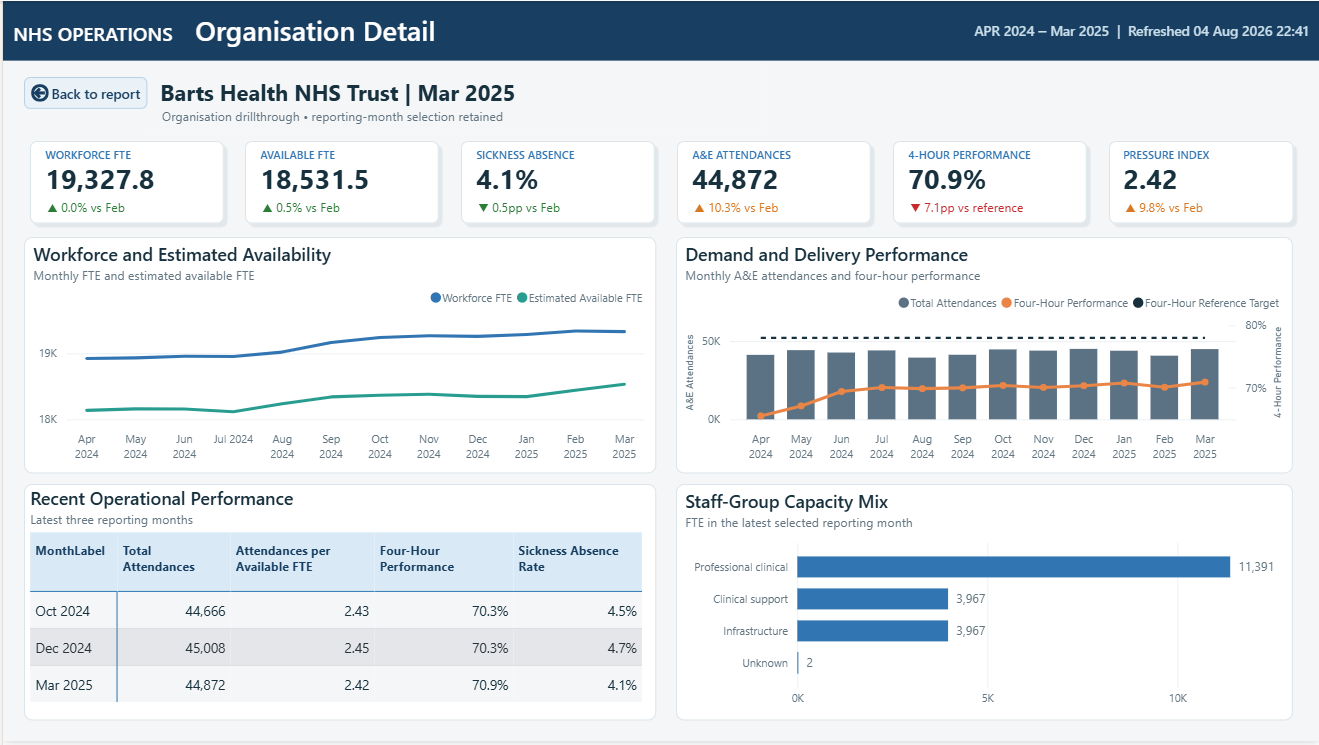

What the dashboard file says about the page in this screenshot:
{"tool":"powerbi","page":{"name":"Organisation","canvas":[1280,720],"ordinal":5},"visuals":[{"type":"cardVisual","fields":{"Data":["_Measures.Organisation Detail Title"]},"box":[140,48,600,80],"z":0},{"type":"shape","box":[1070,130,191,92],"z":0,"group":"g6"},{"type":"shape","box":[0,0,1280,58],"z":1000},{"type":"shape","box":[230,130,200,92],"z":1000,"group":"g2"},{"type":"shape","box":[860,130,200,92],"z":1000,"group":"g5"},{"type":"textbox","box":[5,5,550,47],"z":2000},{"type":"shape","box":[20,130,200,92],"z":2000,"group":"g1"},{"type":"shape","box":[650,130,200,92],"z":2000,"group":"g4"},{"type":"cardVisual","fields":{"Data":["_Measures.Latest Refresh Label"]},"box":[1085,10,190,35],"z":3000},{"type":"shape","box":[440,130,200,92],"z":3000,"group":"g3"},{"type":"textbox","box":[940,11,148,35],"z":4000},{"type":"actionButton","box":[20,74,120,31],"z":5000},{"type":"textbox","box":[155,103,400,28],"z":6000},{"type":"group","id":"g1","title":"Group 4","box":[20,130,200,92],"z":7000},{"type":"group","id":"g2","title":"Group 5","box":[230,130,200,92],"z":8000},{"type":"group","id":"g3","title":"Group 1","box":[440,130,200,92],"z":9000},{"type":"group","id":"g4","title":"Group 2","box":[650,130,200,92],"z":10000},{"type":"group","id":"g5","title":"Group 3","box":[860,130,200,92],"z":11000},{"type":"group","id":"g6","title":"Group 6","box":[1070,130,191,92],"z":11001},{"type":"lineChart","title":"Workforce and Estimated Availability","fields":{"Category":["DimDate.MonthLabel"],"Y":["_Measures.Total FTE","_Measures.Estimated Available FTE"]},"box":[20,230,615,230],"z":11002},{"type":"lineClusteredColumnComboChart","title":"Demand and Delivery Performance","fields":{"Category":["DimDate.MonthLabel"],"Y":["_Measures.Total Attendances"],"Y2":["_Measures.Four-Hour Performance","_Measures.Four-Hour Reference Target"]},"box":[655,230,600,230],"z":11003},{"type":"pivotTable","title":"Recent Operational Performance","fields":{"Rows":["DimDate.MonthLabel"],"Values":["_Measures.Total Attendances","_Measures.Attendances per Available FTE","_Measures.Four-Hour Performance","_Measures.Sickness Absence Rate"]},"box":[20,470,615,230],"z":11004},{"type":"clusteredBarChart","title":"Staff-Group Capacity Mix","fields":{"Category":["dimStaffGroup.Staff Group Display"],"Y":["_Measures.Staff Mix FTE Organisation Detail"]},"box":[655,470,600,230],"z":11005},{"type":"textbox","box":[35.2,140,128.7,17],"z":16000,"group":"g1"},{"type":"cardVisual","fields":{"Data":["_Measures.Total FTE Card Value"]},"box":[35.2,154,169.6,31],"z":17000,"group":"g1"},{"type":"cardVisual","fields":{"Data":["_Measures.Total FTE Card Delta"]},"box":[35.2,189,161.4,20],"z":18000,"group":"g1"},{"type":"textbox","box":[245.2,140,128.7,17],"z":19000,"group":"g2"},{"type":"textbox","box":[1084.5,140,122.9,17],"z":20000,"group":"g6"},{"type":"cardVisual","fields":{"Data":["_Measures.Available FTE Card Value"]},"box":[245.2,154,169.6,31],"z":21000,"group":"g2"},{"type":"textbox","box":[665.2,140,128.7,17],"z":22000,"group":"g4"},{"type":"cardVisual","fields":{"Data":["_Measures.Pressure Index Card Value"]},"box":[1084.5,154,162,31],"z":22000,"group":"g6"},{"type":"textbox","box":[455.2,140,128.7,17],"z":23000,"group":"g3"},{"type":"textbox","box":[875.2,140,163.7,17],"z":23000,"group":"g5"},{"type":"cardVisual","fields":{"Data":["_Measures.Available FTE Card Delta"]},"box":[245.2,189,161.4,20],"z":23000,"group":"g2"},{"type":"cardVisual","fields":{"Data":["_Measures.Pressure Index Card Delta"]},"box":[1084.5,189,154.1,20],"z":24000,"group":"g6"},{"type":"cardVisual","fields":{"Data":["_Measures.AE Attendances Card Value"]},"box":[665.2,154,169.6,31],"z":26000,"group":"g4"},{"type":"cardVisual","fields":{"Data":["_Measures.Four Hour Performance Card Value"]},"box":[875.2,154,169.6,31],"z":27000,"group":"g5"},{"type":"cardVisual","fields":{"Data":["_Measures.Sickness Absence Card Value"]},"box":[455.2,154,169.6,31],"z":28000,"group":"g3"},{"type":"cardVisual","fields":{"Data":["_Measures.AE Attendances Card Delta"]},"box":[665.2,189,161.4,20],"z":30000,"group":"g4"},{"type":"cardVisual","fields":{"Data":["_Measures.Four Hour Performance Card Delta"]},"box":[875.2,189,169.6,20],"z":31000,"group":"g5"},{"type":"cardVisual","fields":{"Data":["_Measures.Sickness Absence Card Delta"]},"box":[455.2,189,161.4,20],"z":33000,"group":"g3"}]}

Visuals, with their boxes in screenshot pixels (x1, y1, x2, y2), scaled from the page's 1280x720 canvas onto the 1319x745 screenshot:
cardVisual - _Measures.Organisation Detail Title: l=144, t=50, r=763, b=132
shape: l=1103, t=135, r=1299, b=230
shape: l=0, t=0, r=1318, b=60
shape: l=237, t=135, r=443, b=230
shape: l=886, t=135, r=1092, b=230
textbox: l=5, t=5, r=572, b=54
shape: l=21, t=135, r=227, b=230
shape: l=670, t=135, r=876, b=230
cardVisual - _Measures.Latest Refresh Label: l=1118, t=10, r=1314, b=47
shape: l=453, t=135, r=660, b=230
textbox: l=969, t=11, r=1121, b=48
actionButton: l=21, t=77, r=144, b=109
textbox: l=160, t=107, r=572, b=136
"Group 4" group: l=21, t=135, r=227, b=230
"Group 5" group: l=237, t=135, r=443, b=230
"Group 1" group: l=453, t=135, r=660, b=230
"Group 2" group: l=670, t=135, r=876, b=230
"Group 3" group: l=886, t=135, r=1092, b=230
"Group 6" group: l=1103, t=135, r=1299, b=230
"Workforce and Estimated Availability" lineChart: l=21, t=238, r=654, b=476
"Demand and Delivery Performance" lineClusteredColumnComboChart: l=675, t=238, r=1293, b=476
"Recent Operational Performance" pivotTable: l=21, t=486, r=654, b=724
"Staff-Group Capacity Mix" clusteredBarChart: l=675, t=486, r=1293, b=724
textbox: l=36, t=145, r=169, b=162
cardVisual - _Measures.Total FTE Card Value: l=36, t=159, r=211, b=191
cardVisual - _Measures.Total FTE Card Delta: l=36, t=196, r=203, b=216
textbox: l=253, t=145, r=385, b=162
textbox: l=1118, t=145, r=1244, b=162
cardVisual - _Measures.Available FTE Card Value: l=253, t=159, r=427, b=191
textbox: l=685, t=145, r=818, b=162
cardVisual - _Measures.Pressure Index Card Value: l=1118, t=159, r=1284, b=191
textbox: l=469, t=145, r=602, b=162
textbox: l=902, t=145, r=1071, b=162
cardVisual - _Measures.Available FTE Card Delta: l=253, t=196, r=419, b=216
cardVisual - _Measures.Pressure Index Card Delta: l=1118, t=196, r=1276, b=216
cardVisual - _Measures.AE Attendances Card Value: l=685, t=159, r=860, b=191
cardVisual - _Measures.Four Hour Performance Card Value: l=902, t=159, r=1077, b=191
cardVisual - _Measures.Sickness Absence Card Value: l=469, t=159, r=644, b=191
cardVisual - _Measures.AE Attendances Card Delta: l=685, t=196, r=852, b=216
cardVisual - _Measures.Four Hour Performance Card Delta: l=902, t=196, r=1077, b=216
cardVisual - _Measures.Sickness Absence Card Delta: l=469, t=196, r=635, b=216
